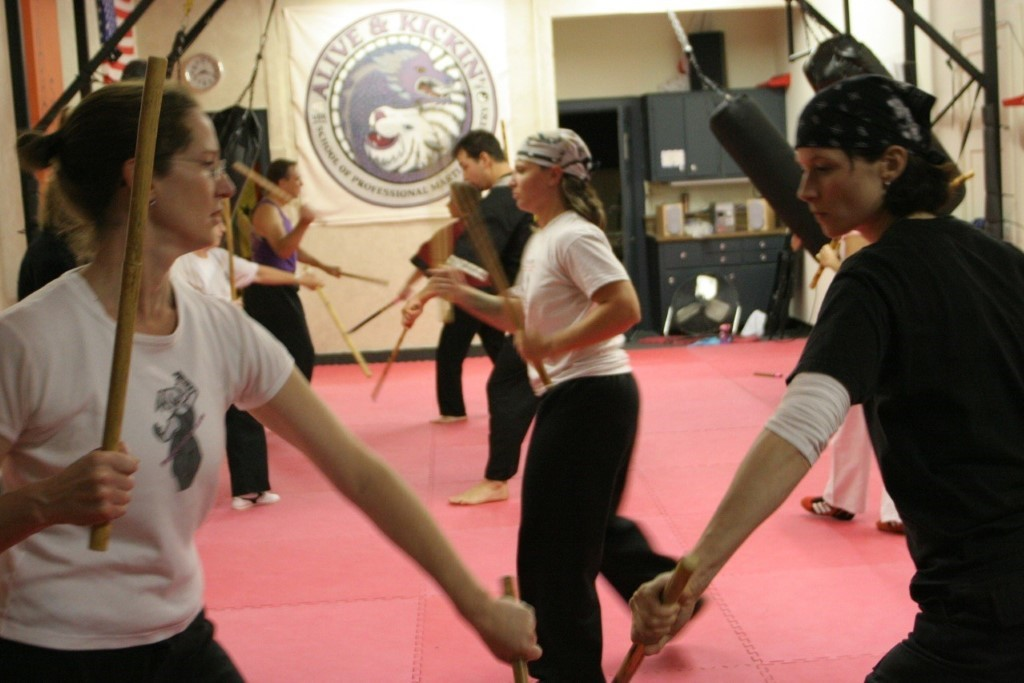baston_e: (91, 72, 171, 539), (460, 197, 550, 380), (620, 572, 688, 676), (315, 289, 369, 369), (498, 586, 530, 680), (372, 326, 410, 394), (217, 203, 240, 296), (352, 297, 398, 333), (812, 237, 836, 283), (339, 270, 387, 284), (945, 174, 971, 187)
baston_v: (79, 529, 116, 560), (675, 551, 705, 579), (144, 50, 174, 77), (496, 568, 523, 590), (539, 375, 555, 388), (805, 278, 817, 292), (361, 368, 373, 380), (368, 390, 378, 403), (232, 159, 241, 172), (968, 168, 977, 178), (383, 277, 391, 287), (498, 118, 506, 125), (346, 329, 352, 335)
